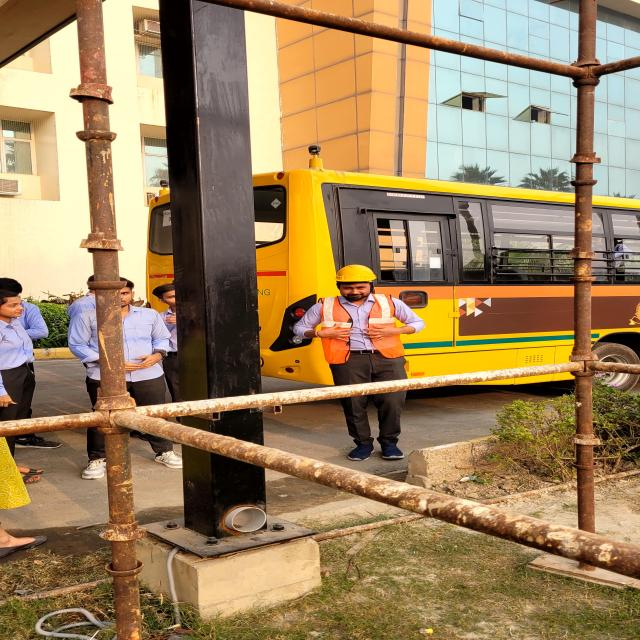safe: (292, 262, 440, 462)
